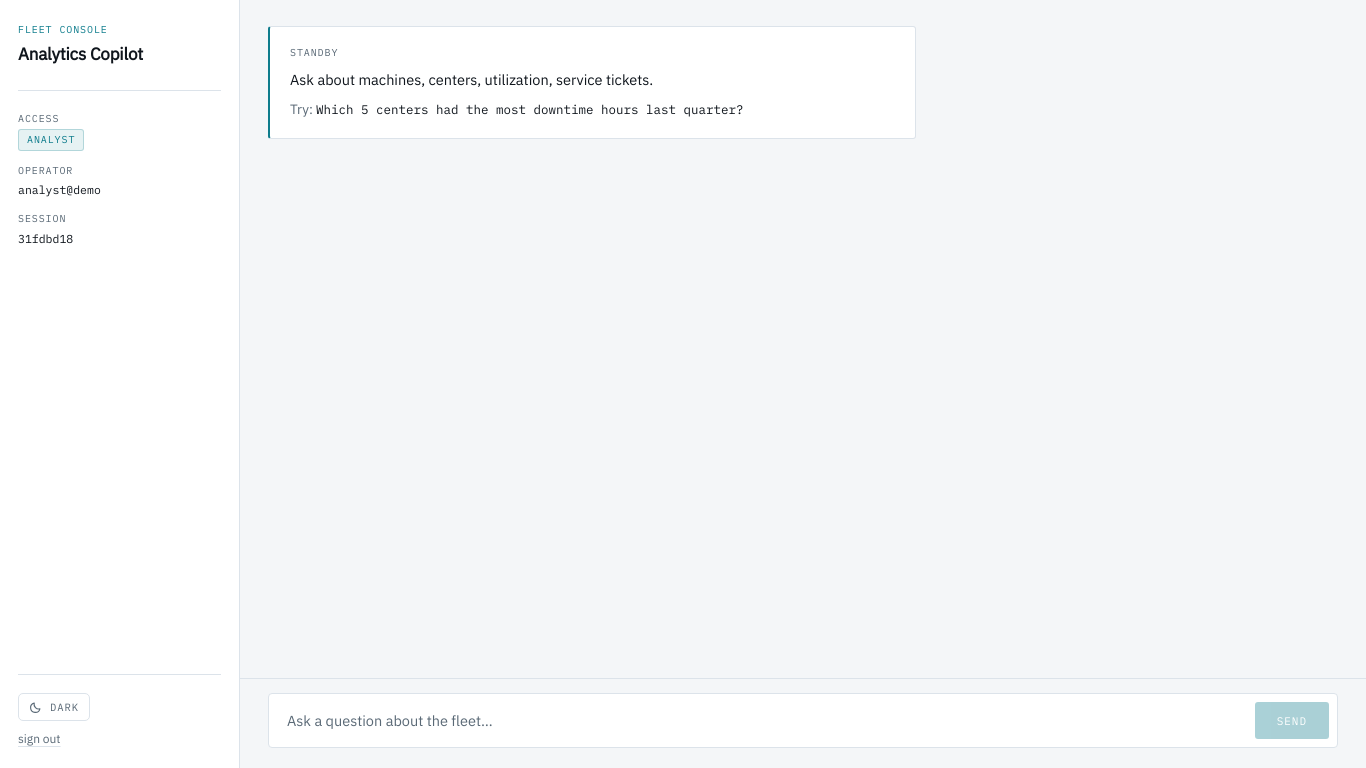
assumptions render under the SQL panel when present
Type "how many centers" into the field with placeholder "Ask a question about the fleet…". click: [761, 720]
box: [277, 702, 1245, 739]
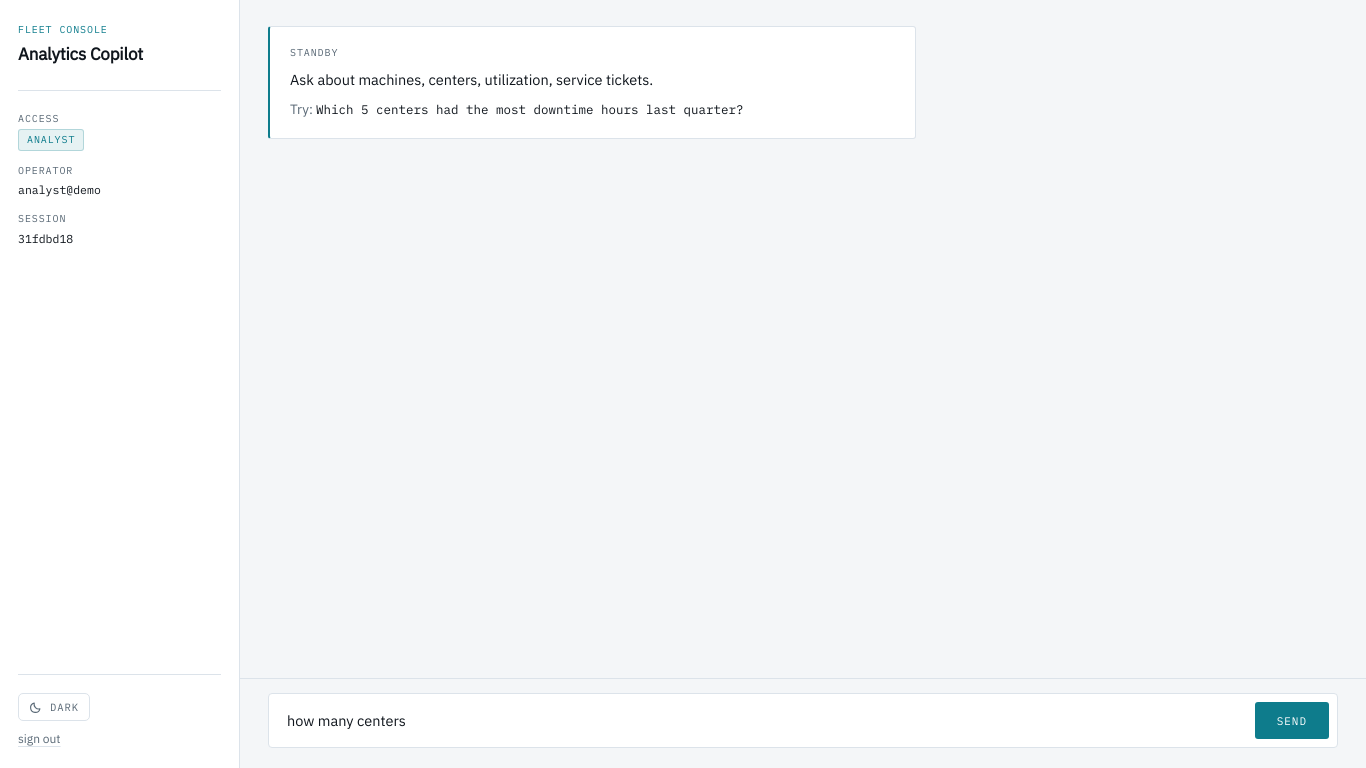
Click the button "Send". click: [1292, 720]
box: [1255, 702, 1329, 739]
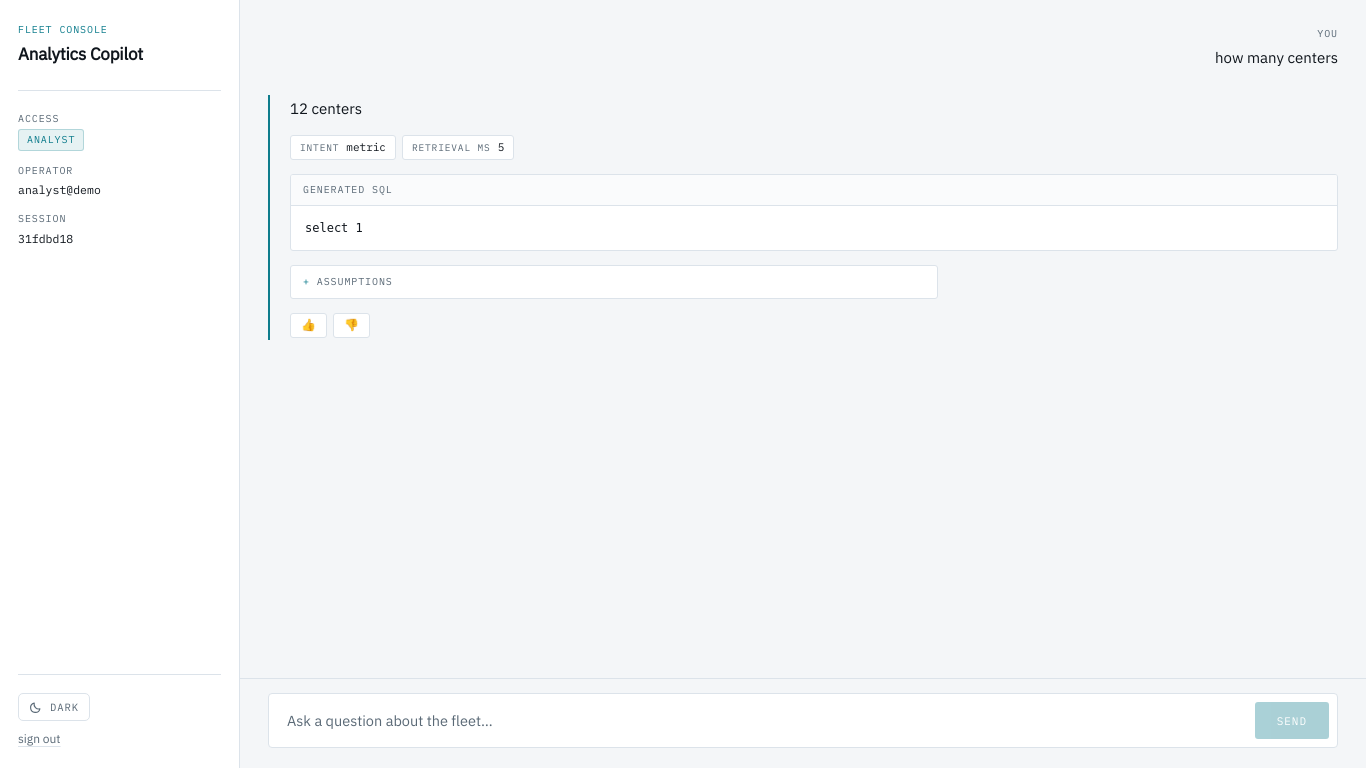
Check: the heading "Assumptions" is shown, box [317, 275, 393, 288]
